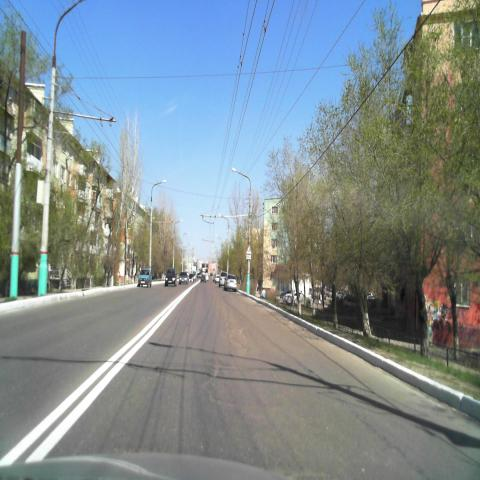1_23: (246, 245, 252, 254)
